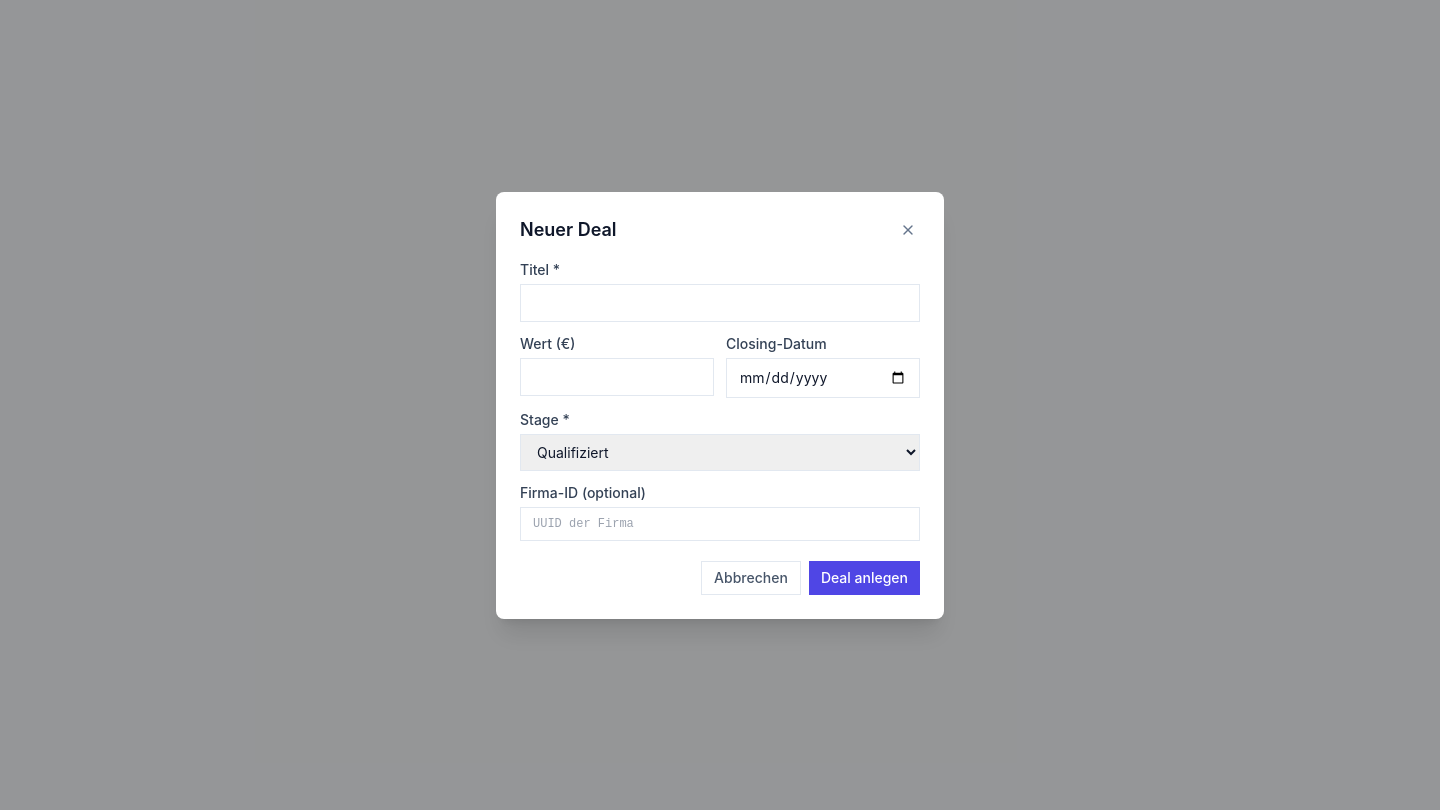
Test: CreateDealModal › shows API errors inline without closing
In the field labelled "Titel *": point(720, 302) [520,284,920,322], type "X"
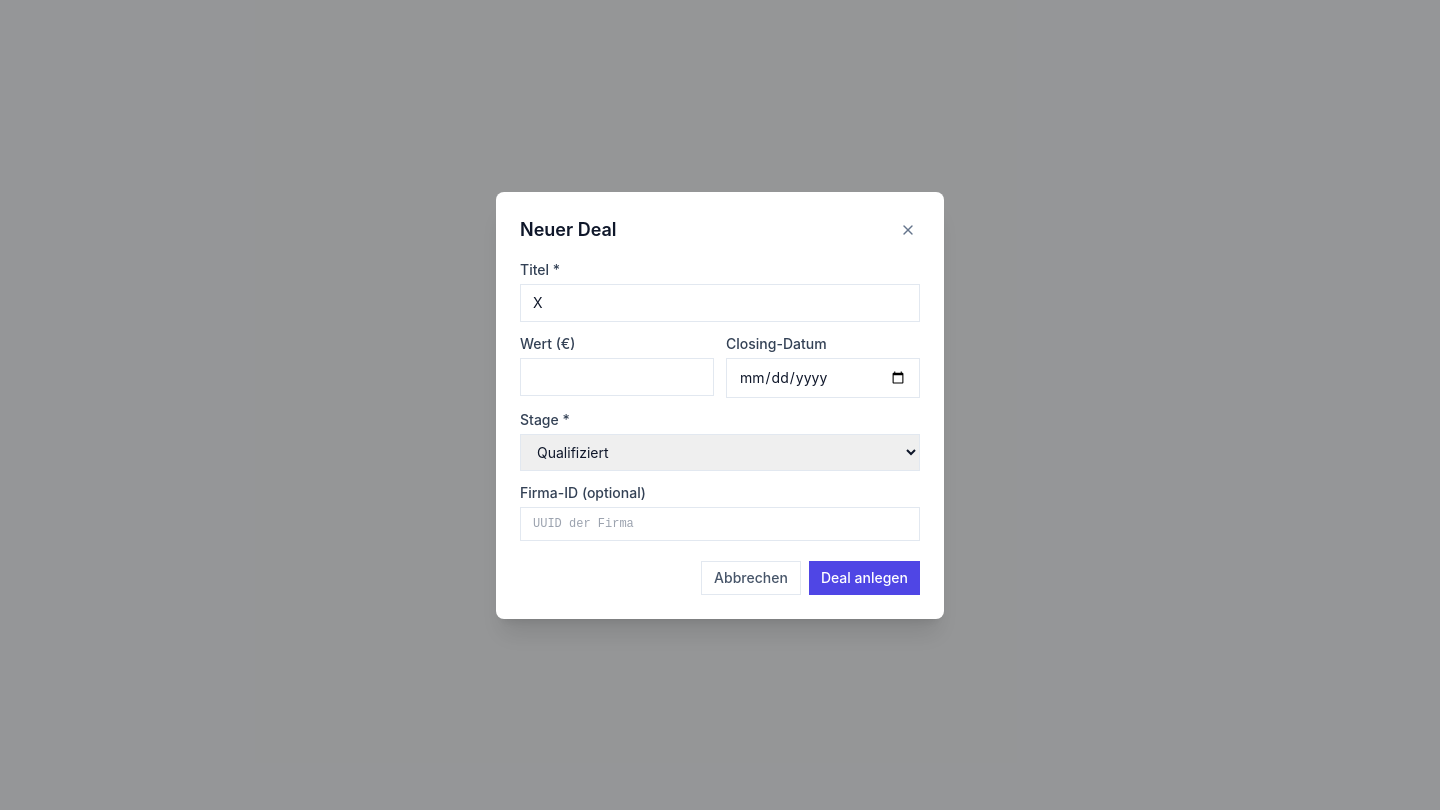
Click the button "Deal anlegen": point(864, 578) [809,560,920,594]
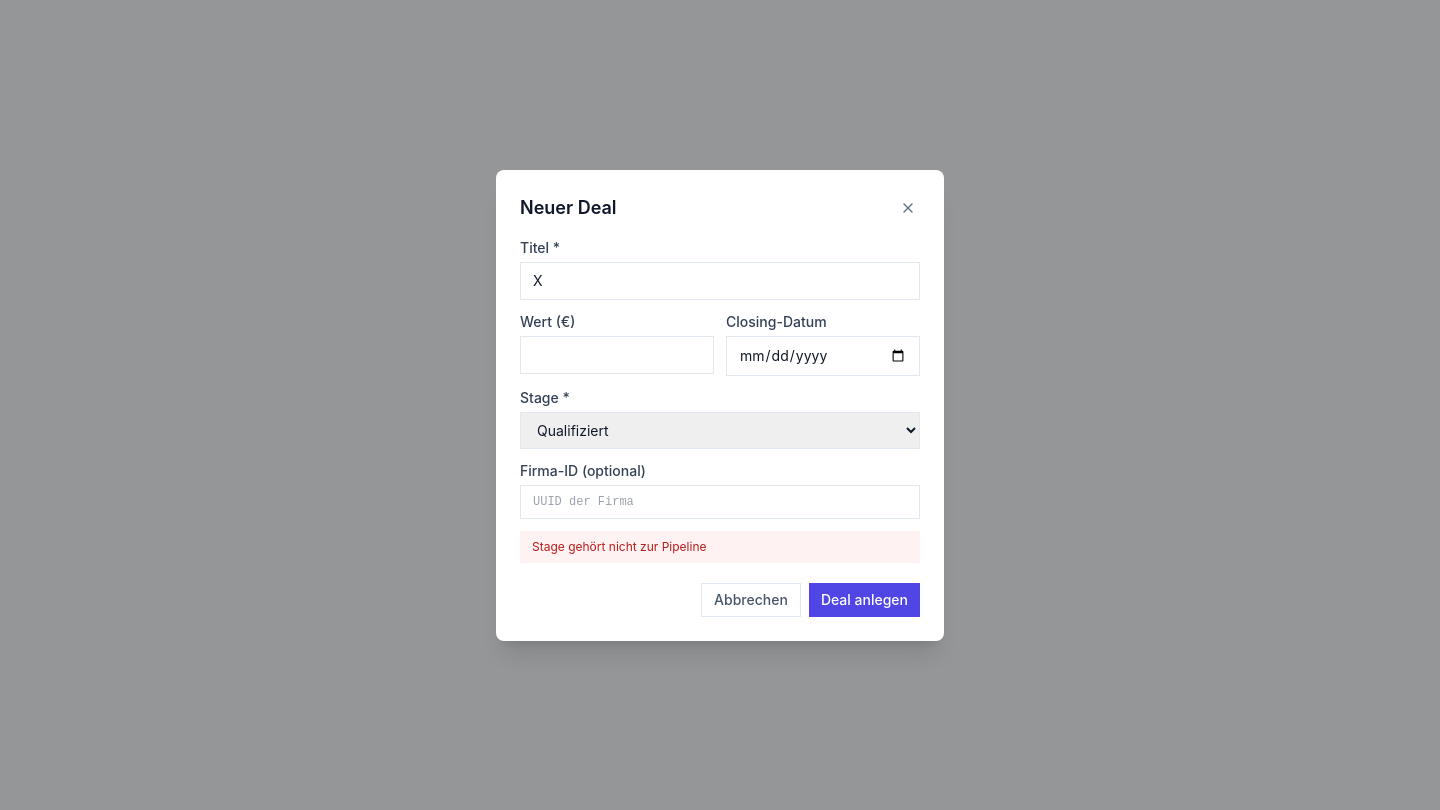
Expected: the message shows "Stage gehört nicht", [532,538,706,554]
